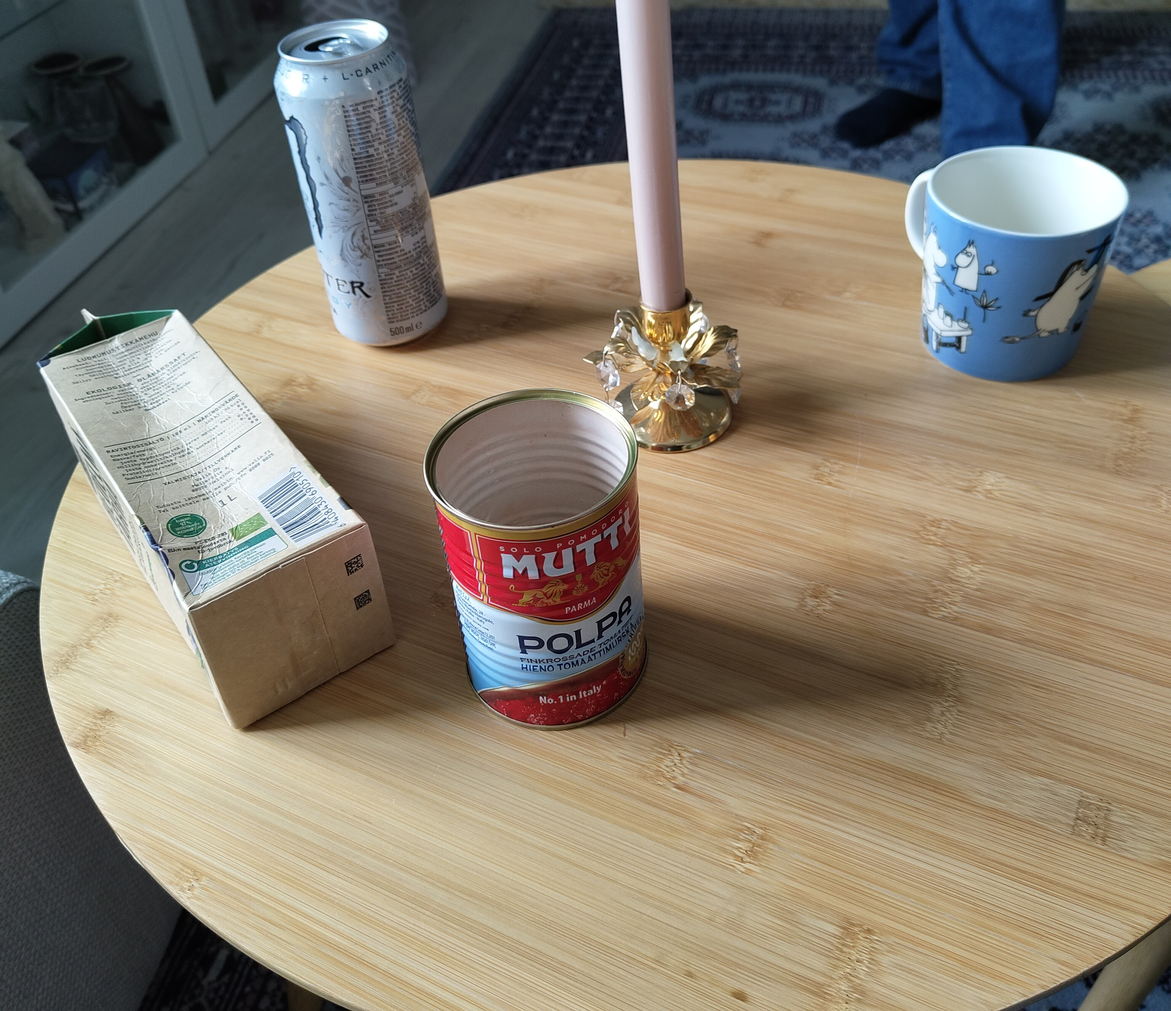Dryckeskartong: (422, 387, 649, 730)
Pantburk: (37, 308, 397, 730), (273, 17, 449, 349)
